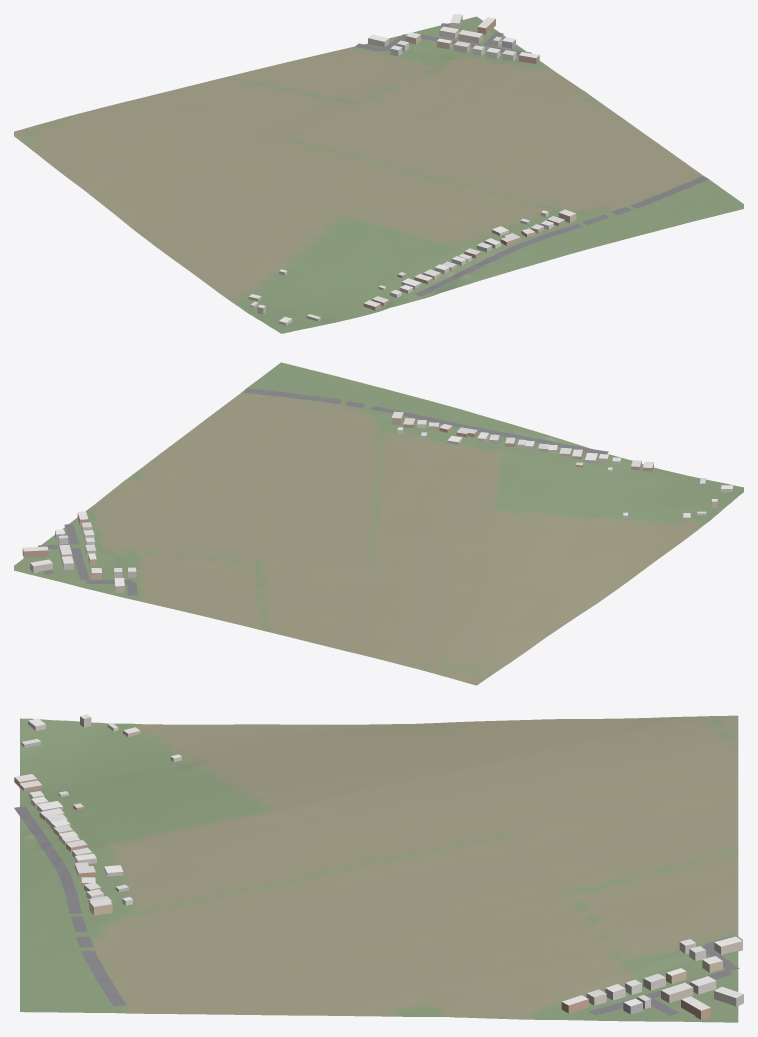
3 renders of one model, top to bottom at view 1: azimuth 30°, elevation 25°; view 2: azimuth 150°, elevation 25°; view 3: azimuth 270°, elevation 25°, orthographic. The views are drawn at different scales.
Parts seen in each view (by area): view 1: prim0, prim1, prim2; view 2: prim0, prim1, prim2; view 3: prim0, prim1, prim2.
Part boxes in pixels (x1=…): prim0: x1=14, y1=16, x2=743, y2=333; prim1: x1=248, y1=14, x2=576, y2=325; prim2: x1=355, y1=23, x2=708, y2=296; prim0: x1=14, y1=362, x2=743, y2=685; prim1: x1=22, y1=411, x2=733, y2=592; prim2: x1=38, y1=388, x2=608, y2=595; prim0: x1=20, y1=715, x2=738, y2=1022; prim1: x1=14, y1=714, x2=743, y2=1019; prim2: x1=14, y1=806, x2=742, y2=1015.
Bounding box in the file's own units: 518 × 28.08 × 520.
